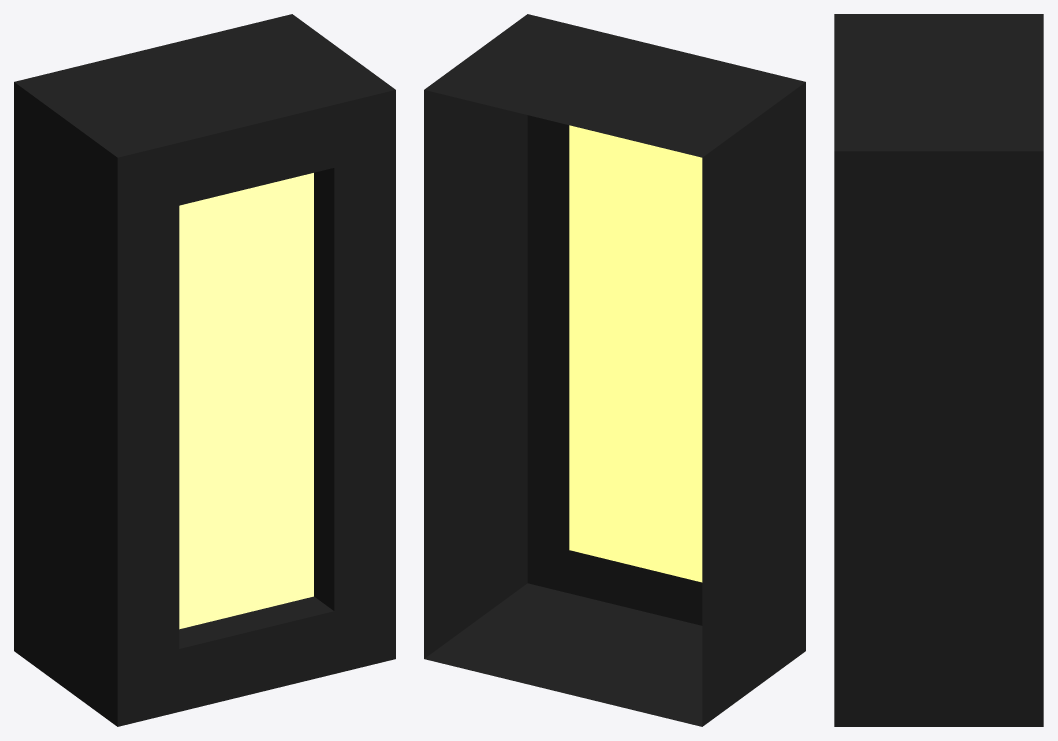
Rendered from lamp_2.glb.
3 views of the same model, side by side, from view 1: azimuth 30°, elevation 25°; view 2: azimuth 150°, elevation 25°; view 3: azimuth 270°, elevation 25° (orthographic).
Visible parts, largest first — view 1: Wall Light 2; view 2: Wall Light 2; view 3: Wall Light 2.
Part boxes in pixels (x1,y1,x2,y2): Wall Light 2: (14, 14, 395, 726); Wall Light 2: (424, 14, 805, 726); Wall Light 2: (834, 14, 1043, 726).
Size of the model in its own units: 0.2713 by 0.5303 by 0.1749.
2 materials, 1 textured.
